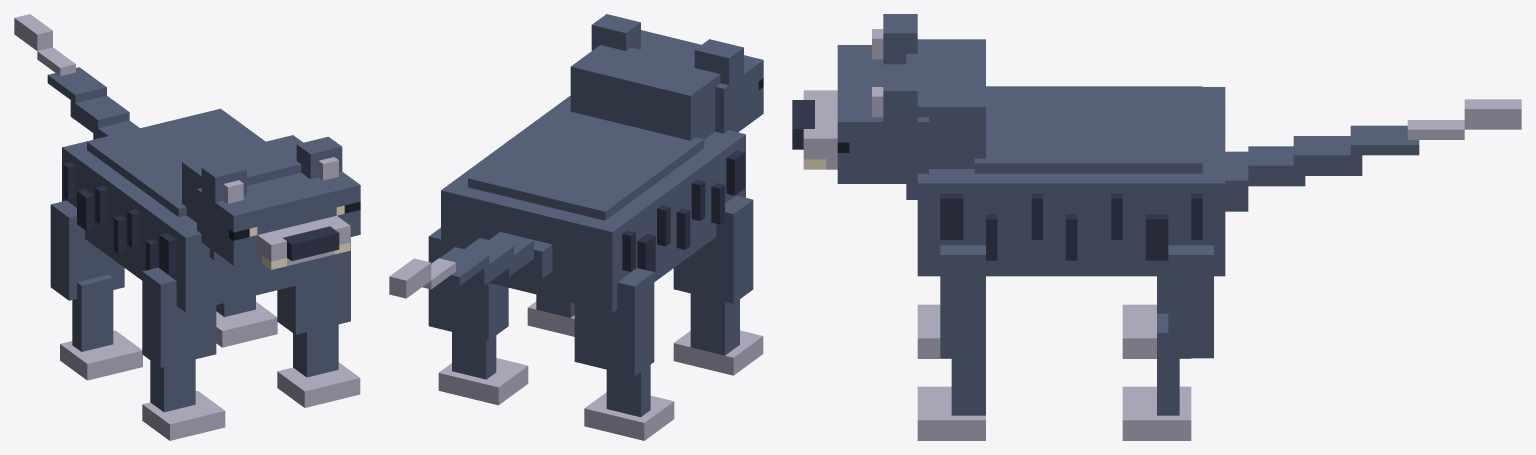
File: veil_cat.glb
3 renders of one model, left to right at view 1: azimuth 30°, elevation 25°; view 2: azimuth 150°, elevation 25°; view 3: azimuth 270°, elevation 25°, orthographic. The views are drawn at different scales.
Parts seen in each view (by area): view 1: veil_cat/thorax, veil_cat/head, veil_cat/left_foreleg, veil_cat/left_hindleg, veil_cat/right_foreleg, veil_cat/tail, veil_cat/neck, veil_cat/right_hindleg, veil_cat/head_ear_l, veil_cat/head_ear_r; view 2: veil_cat/thorax, veil_cat/neck, veil_cat/left_hindleg, veil_cat/left_foreleg, veil_cat/right_hindleg, veil_cat/tail, veil_cat/head, veil_cat/head_ear_l, veil_cat/right_foreleg, veil_cat/head_ear_r; view 3: veil_cat/thorax, veil_cat/head, veil_cat/tail, veil_cat/right_hindleg, veil_cat/right_foreleg, veil_cat/neck, veil_cat/left_hindleg, veil_cat/head_ear_r, veil_cat/head_ear_l, veil_cat/left_foreleg.
Part boxes in pixels (x1,y1,x2,y2): veil_cat/thorax: (62,108,344,312); veil_cat/head: (197,171,360,269); veil_cat/left_foreleg: (142,267,225,440); veil_cat/left_hindleg: (50,200,142,380); veil_cat/right_foreleg: (277,238,360,407); veil_cat/tail: (14,14,139,139); veil_cat/neck: (182,135,302,260); veil_cat/right_hindleg: (216,295,277,347); veil_cat/head_ear_l: (201,160,246,209); veil_cat/head_ear_r: (296,136,342,180); veil_cat/thorax: (441,95,745,312); veil_cat/neck: (570,45,720,140); veil_cat/left_hindleg: (574,268,674,440); veil_cat/left_foreleg: (673,195,763,375); veil_cat/right_hindleg: (428,227,528,405); veil_cat/tail: (389,232,552,298); veil_cat/head: (640,30,763,133); veil_cat/head_ear_l: (694,39,743,93); veil_cat/right_foreleg: (527,294,574,336); veil_cat/head_ear_r: (591,14,640,50); veil_cat/thorax: (917,86,1225,276); veil_cat/head: (792,45,928,183); veil_cat/tail: (1225,99,1521,211); veil_cat/right_hindleg: (1122,245,1213,440); veil_cat/right_foreleg: (917,245,985,440); veil_cat/neck: (906,39,985,199); veil_cat/left_hindleg: (1122,276,1191,358); veil_cat/head_ear_r: (872,71,917,132); veil_cat/head_ear_l: (872,14,917,64); veil_cat/left_foreleg: (917,304,951,358).
Bounding box in the file's own units: 0.75 × 1 × 2.
